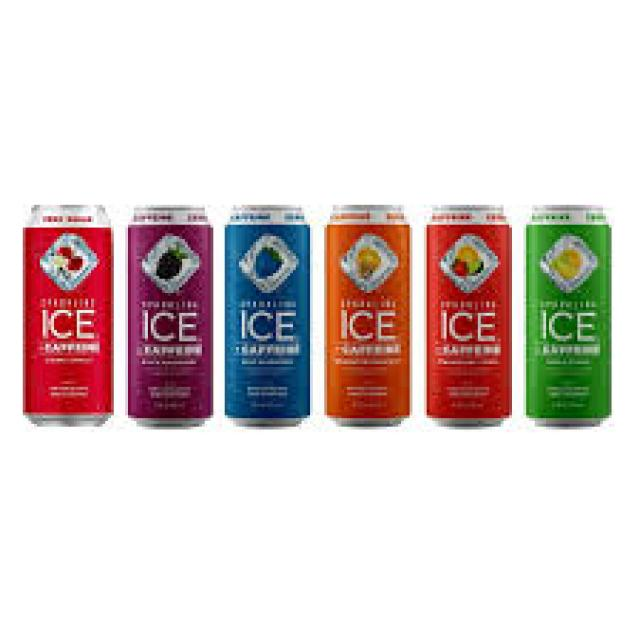Cans: (14, 196, 122, 435), (316, 196, 421, 435), (418, 196, 524, 432), (219, 194, 319, 436), (117, 199, 219, 435), (518, 199, 617, 435)
